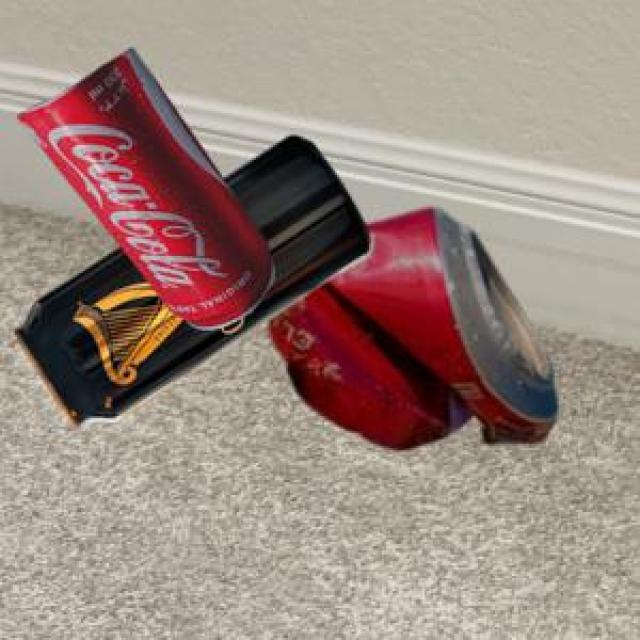logam: (12, 133, 366, 423), (16, 46, 272, 325), (266, 206, 554, 447)
